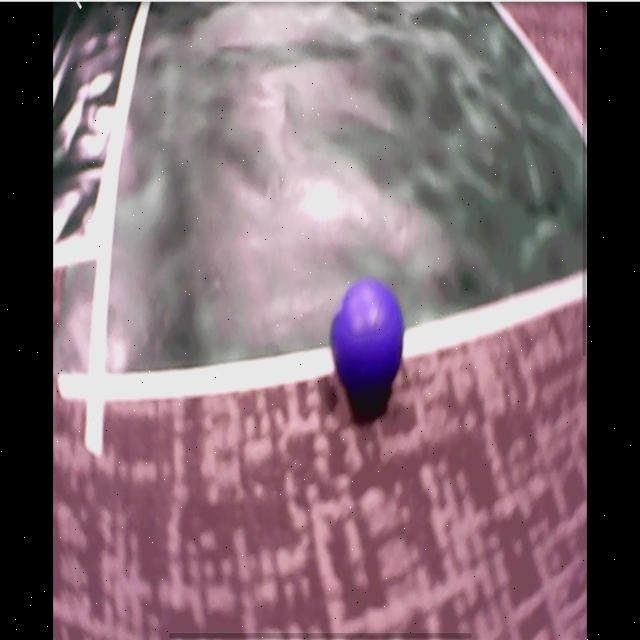ball: (331, 281, 408, 401)
